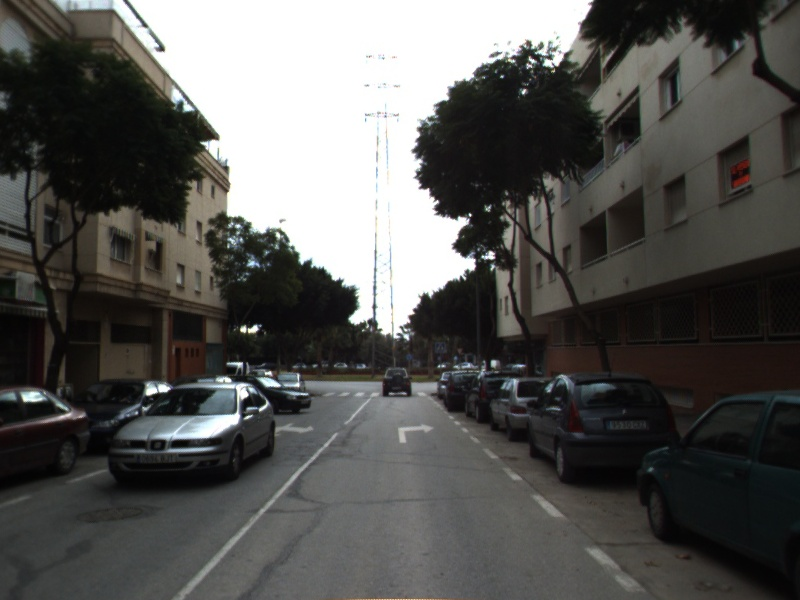RIGHT: (396, 421, 437, 445)
